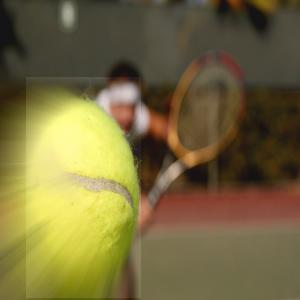TennisBall: (27, 79, 143, 300)
